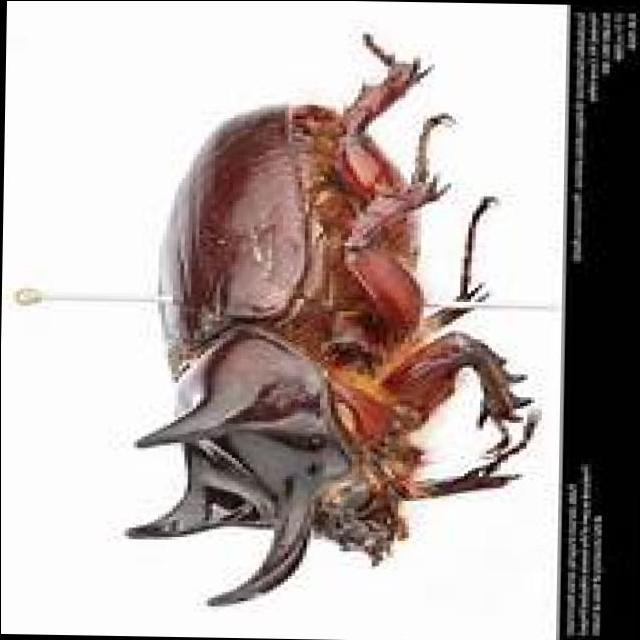Rhino-beetle: (112, 33, 548, 616)
